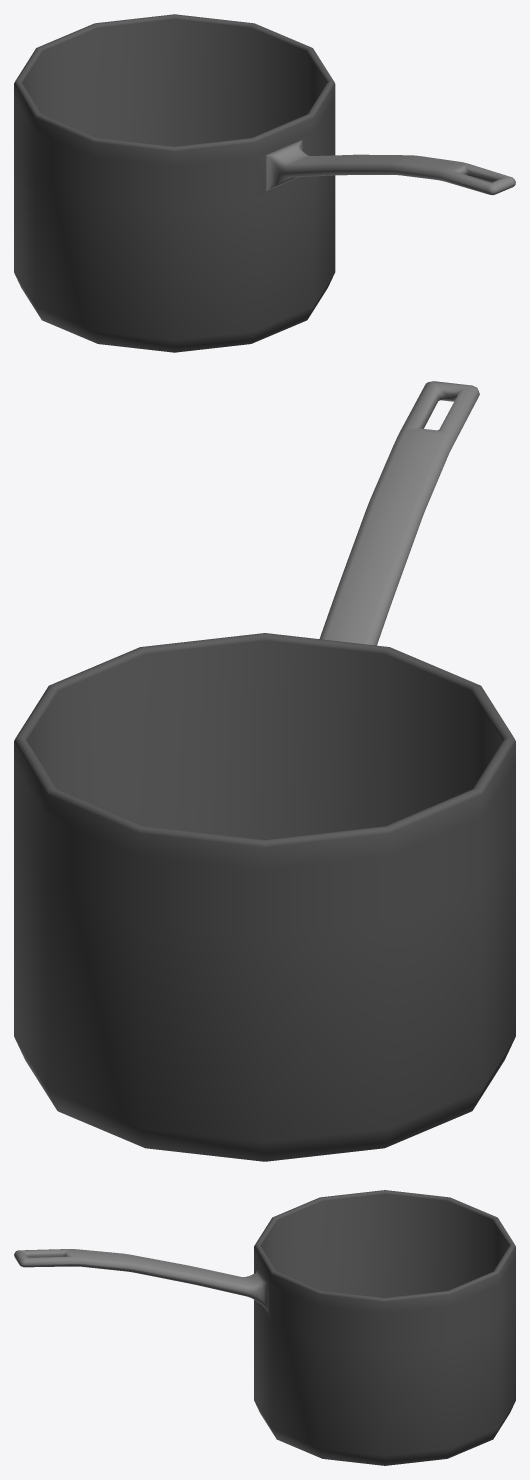
Rendered from Small Potpan.fbx.
The picture shows the model from 3 angles, top to bottom: view 1: azimuth 30°, elevation 25°; view 2: azimuth 150°, elevation 25°; view 3: azimuth 270°, elevation 25°; orthographic projection. The views are drawn at different scales.
Parts seen in each view (by area): view 1: Small Saucepan; view 2: Small Saucepan; view 3: Small Saucepan.
Boxes of the visible parts, x1,y1,x2,y2 form: Small Saucepan: (14, 14, 515, 352); Small Saucepan: (14, 381, 515, 1161); Small Saucepan: (14, 1190, 515, 1465).
Bounding box in the file's own units: 21.8 × 18.8 × 41.78.
